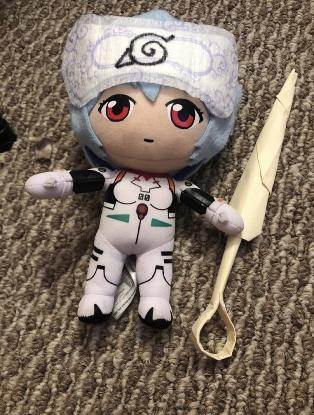rei-plush: (16, 0, 260, 333)
